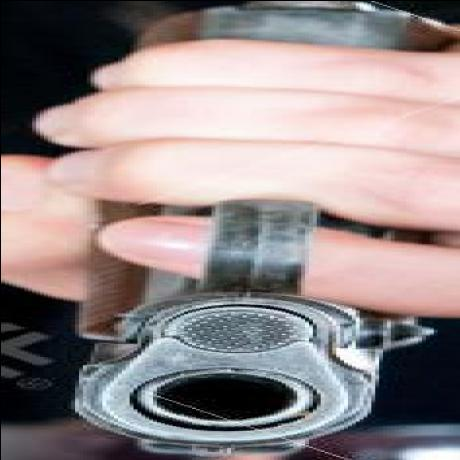1: (0, 36, 460, 322)
weapon: (40, 218, 402, 456)
